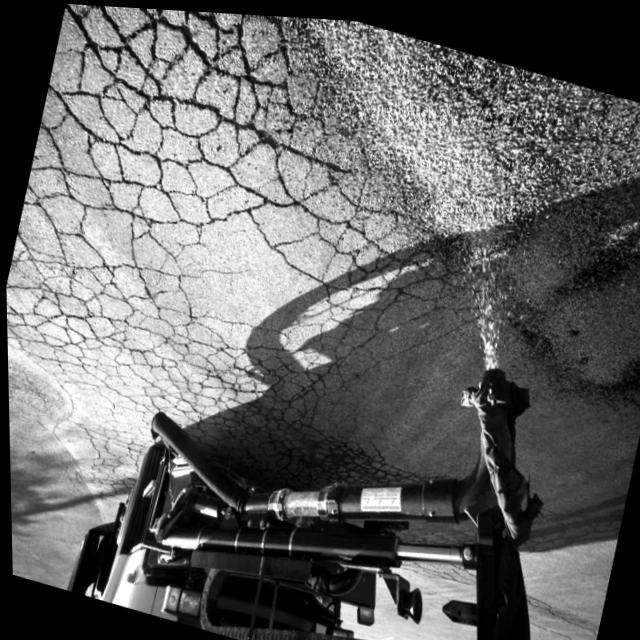cleat: (5, 3, 640, 640)
